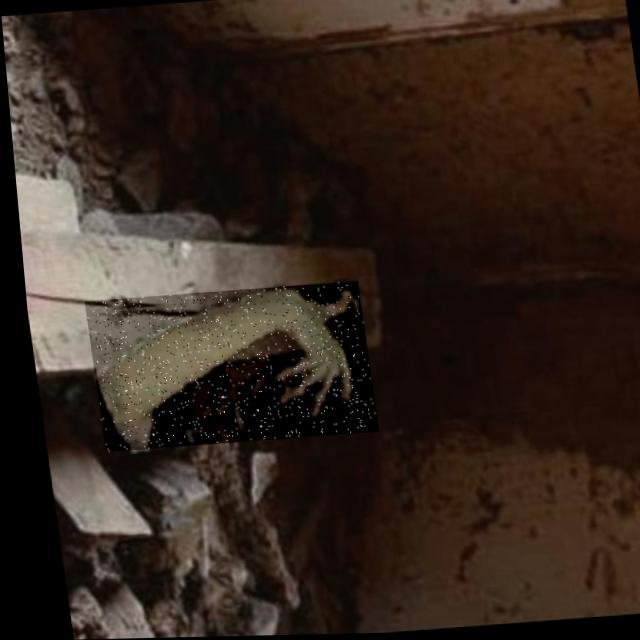Person in Rubble: (77, 283, 371, 453)
